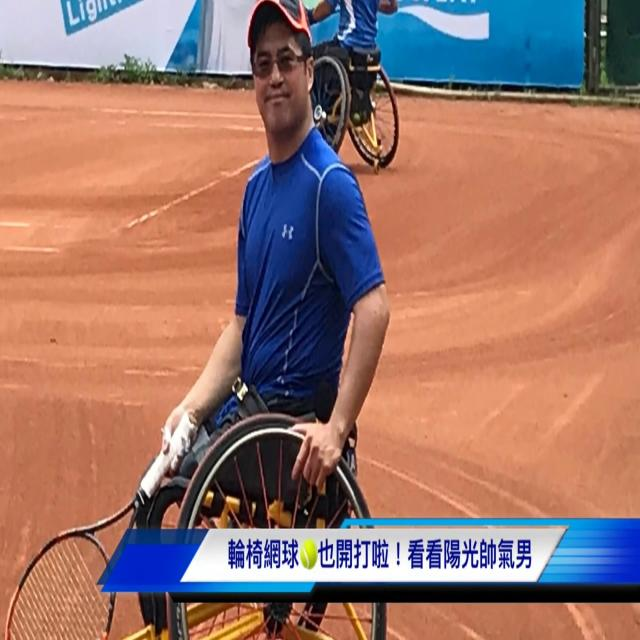wheelchairs: (139, 354, 435, 640), (283, 26, 424, 198)
